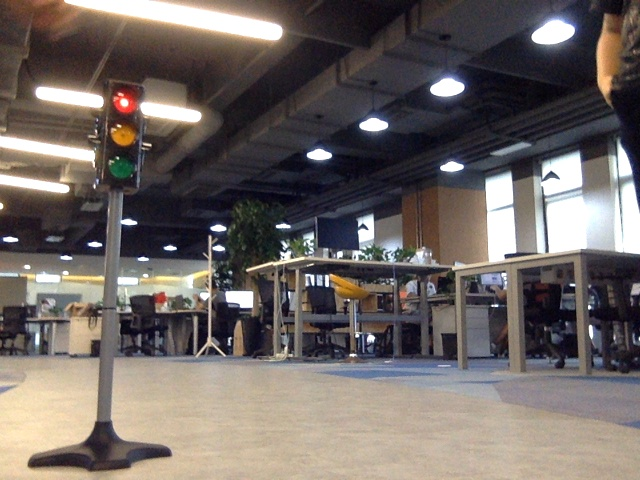red: (107, 88, 138, 179)
